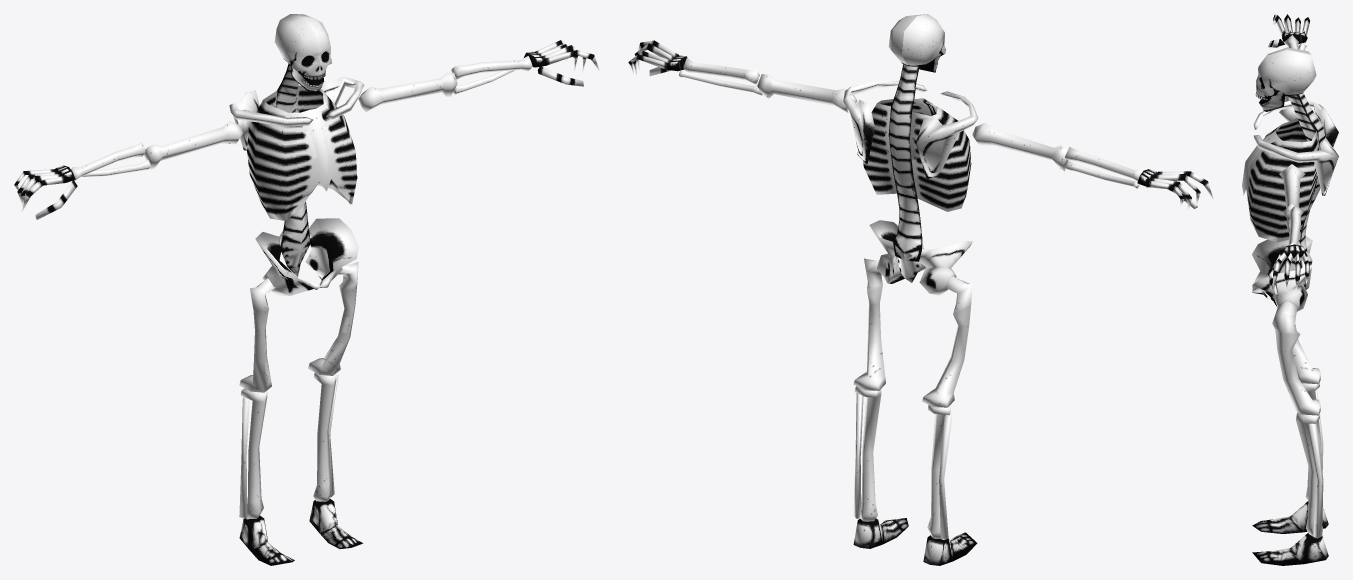
File: MainCharacterFinal.fbx
3 renders of one model, left to right at view 1: azimuth 30°, elevation 25°; view 2: azimuth 150°, elevation 25°; view 3: azimuth 270°, elevation 25°, orthographic. The views are drawn at different scales.
Parts seen in each view (by area): view 1: JackSkel; view 2: JackSkel; view 3: JackSkel.
Boxes of the visible parts, left/top/right/bottom form: JackSkel: left=14, top=14, right=599, bottom=565; JackSkel: left=628, top=14, right=1213, bottom=565; JackSkel: left=1242, top=14, right=1338, bottom=565.
Size of the model in its own units: 2086 by 1825 by 324.
13 materials, 13 textured.
